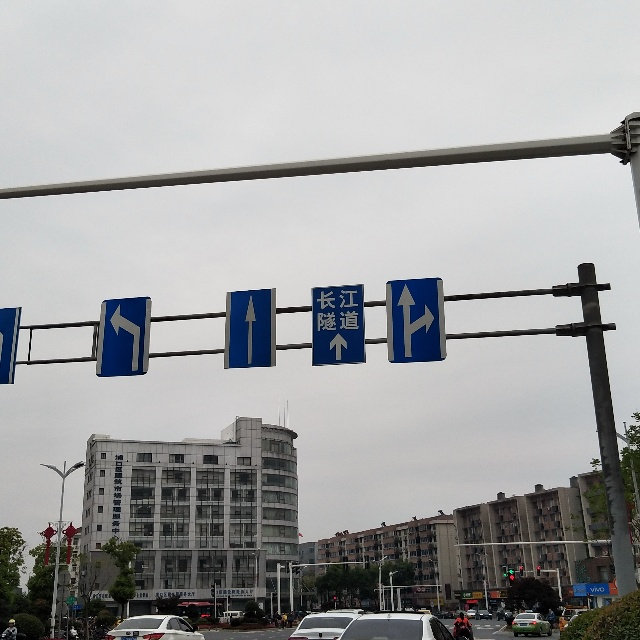left: (108, 297, 146, 372)
straight: (232, 291, 271, 365), (321, 321, 354, 361)
